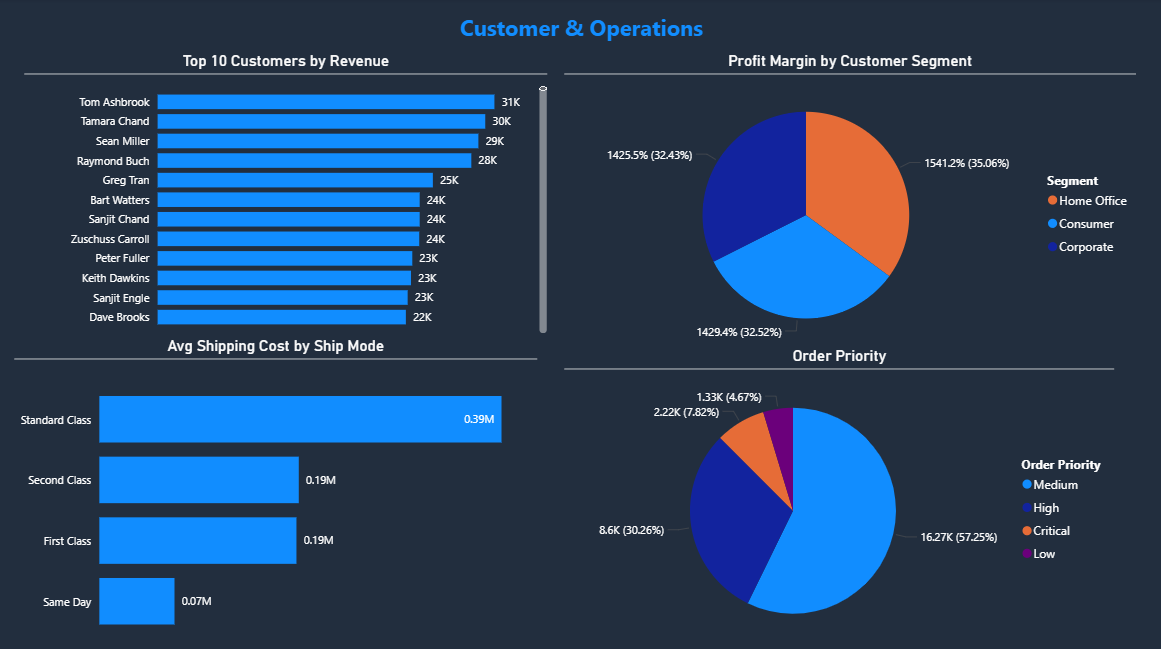

What the dashboard file says about the page in this screenshot:
{"tool":"powerbi","page":{"name":"Page 4","canvas":[1280,720],"ordinal":3},"visuals":[{"type":"barChart","title":"Top 10 Customers by Revenue","fields":{"Y":["Sum(archive (10).Sales)"],"Category":["archive (10).Customer Name"]},"box":[23.3,59,583.2,312.9],"z":0},{"type":"pieChart","title":"Profit Margin by Customer Segment","fields":{"Category":["archive (10).Segment"],"Y":["archive (10).Profit Margin"]},"box":[616.1,59,636.7,332.1],"z":1000},{"type":"barChart","title":"Avg Shipping Cost by Ship Mode","fields":{"Category":["archive (10).Ship Mode"],"Y":["Sum(archive (10).Shipping Cost)"]},"box":[12.3,371.9,583.2,348.5],"z":1001},{"type":"pieChart","title":" Order Priority","fields":{"Category":["archive (10).Order Priority"],"Y":["CountNonNull(archive (10).Order ID)"]},"box":[616.1,382.8,613.4,333.4],"z":1002},{"type":"textbox","box":[12.3,11,1254.2,42.5],"z":1003}]}

Visuals, with their boxes in screenshot pixels (x1, y1, x2, y2), scaled from the page's 1280x720 canvas onto the 1161x649 screenshot:
"Top 10 Customers by Revenue" barChart: x1=21, y1=53, x2=550, y2=335
"Profit Margin by Customer Segment" pieChart: x1=559, y1=53, x2=1136, y2=353
"Avg Shipping Cost by Ship Mode" barChart: x1=11, y1=335, x2=540, y2=648
" Order Priority" pieChart: x1=559, y1=345, x2=1115, y2=646
textbox: x1=11, y1=10, x2=1149, y2=48
